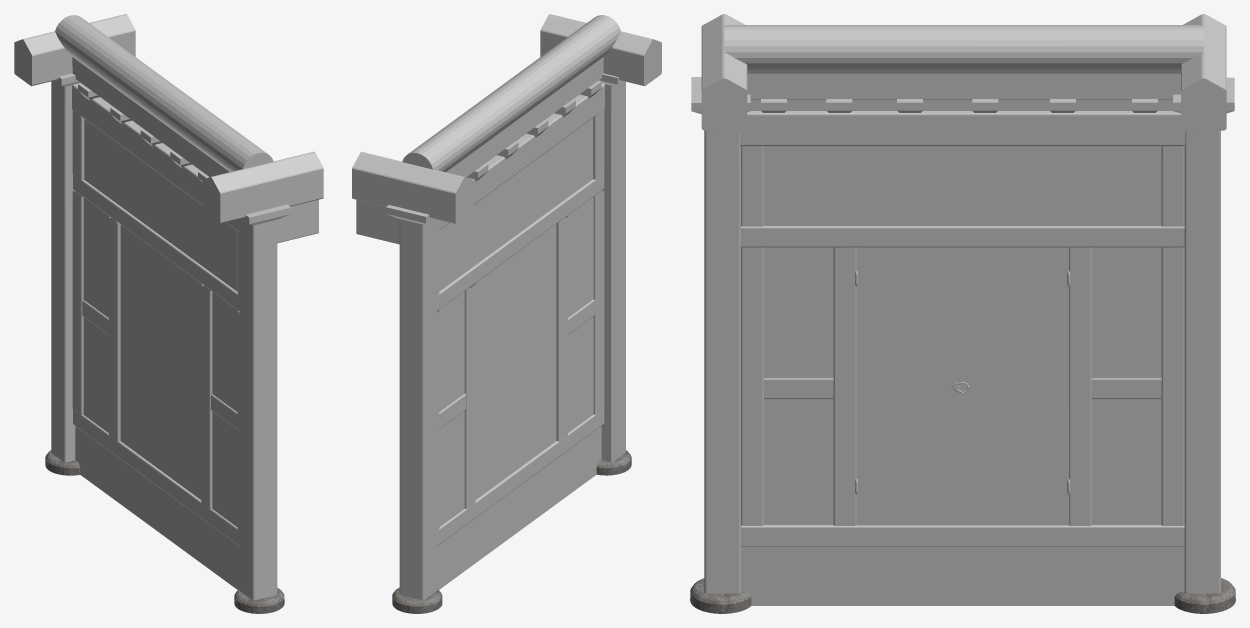
The model's file is SM_Building_Wall_15.FBX.
3 renders of one model, left to right at view 1: azimuth 30°, elevation 25°; view 2: azimuth 150°, elevation 25°; view 3: azimuth 270°, elevation 25°, orthographic. The views are drawn at different scales.
Visible parts, largest first — view 1: SM_Building_Wall_15; view 2: SM_Building_Wall_15; view 3: SM_Building_Wall_15.
Part boxes in pixels (x1,y1,x2,y2): SM_Building_Wall_15: [14, 14, 323, 613]; SM_Building_Wall_15: [352, 14, 661, 613]; SM_Building_Wall_15: [690, 14, 1235, 613].
Bounding box in the file's own units: 190 × 789 × 681.
